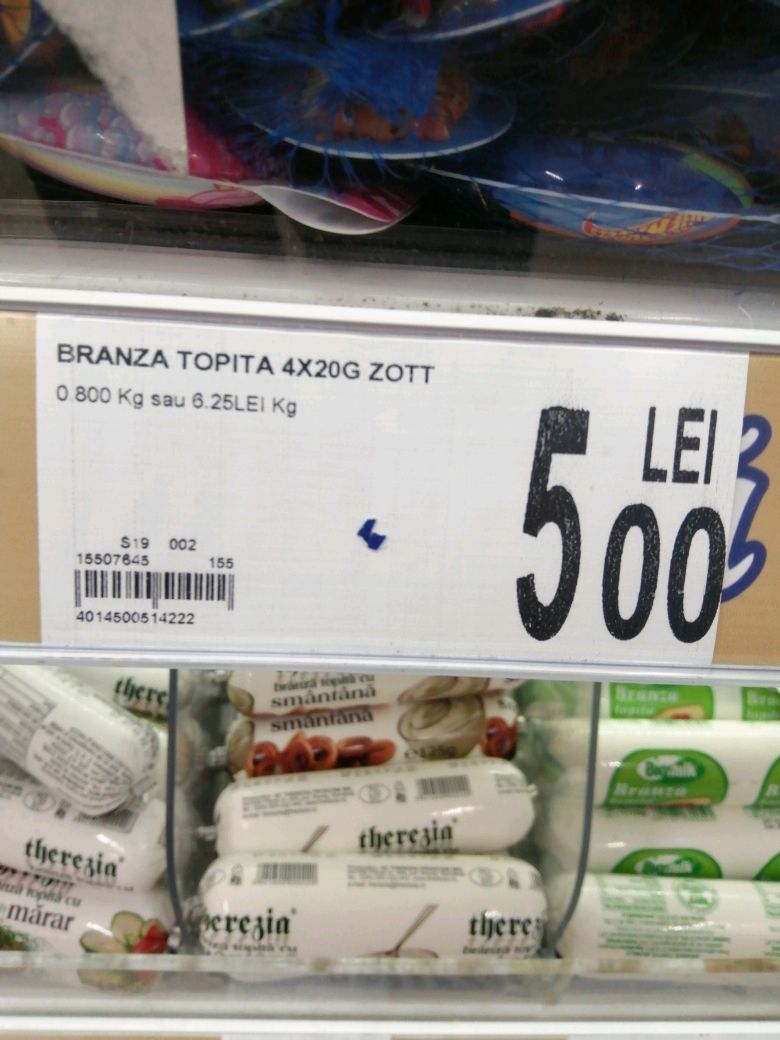price_bani: (600, 495, 732, 650)
price_lei: (473, 393, 596, 650)
price_tag: (24, 309, 759, 698)
product_id: (60, 606, 210, 631)
product_name: (42, 333, 461, 390)
